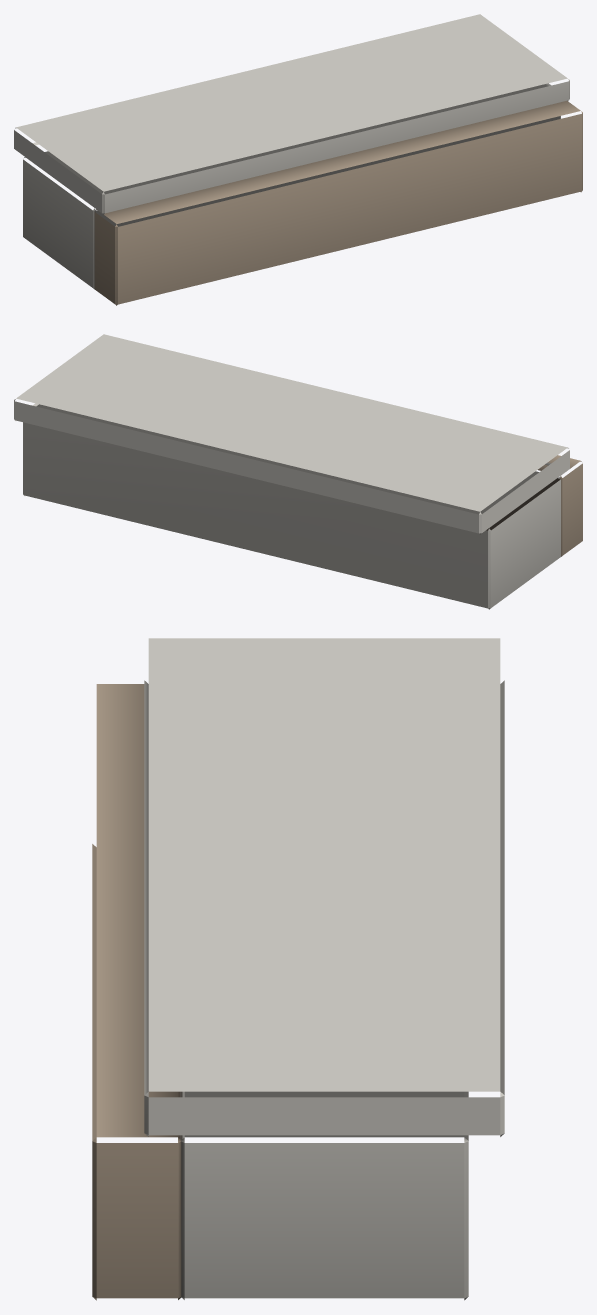
Rendered from pond_edge.glb.
3 renders of one model, top to bottom at view 1: azimuth 30°, elevation 25°; view 2: azimuth 150°, elevation 25°; view 3: azimuth 270°, elevation 25°, orthographic. The views are drawn at different scales.
Parts seen in each view (by area): view 1: props_pond_edge; view 2: props_pond_edge; view 3: props_pond_edge.
Boxes of the visible parts, x1,y1,x2,y2 form: props_pond_edge: (14,14,582,305); props_pond_edge: (14,334,582,609); props_pond_edge: (92,638,504,1300).
Size of the model in its own units: 3 by 0.64 by 1.14.
